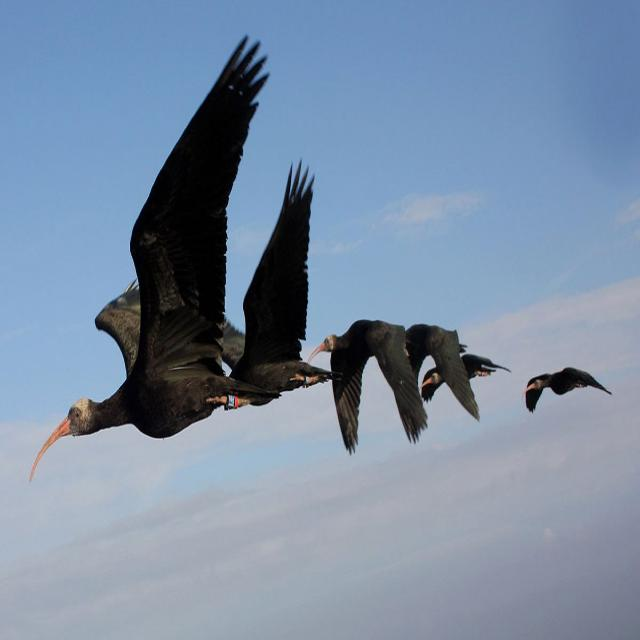bird: (26, 30, 267, 488), (204, 140, 328, 427), (330, 326, 512, 444), (404, 329, 514, 422), (526, 370, 615, 417)
